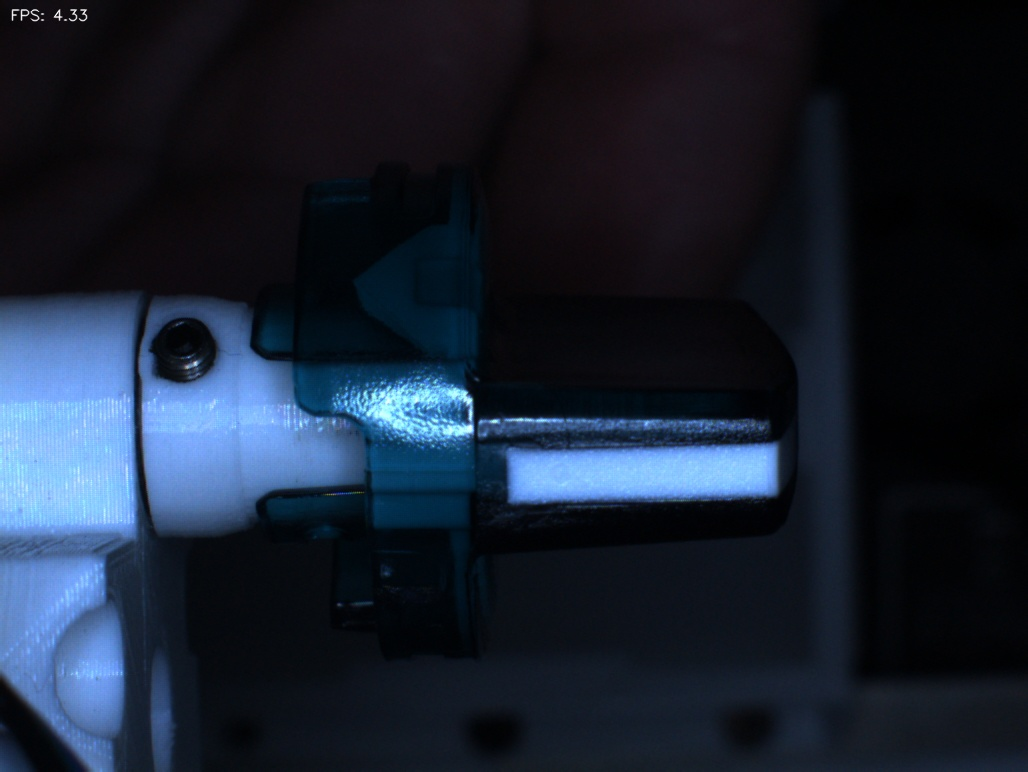DentOk: (330, 244, 392, 330)
